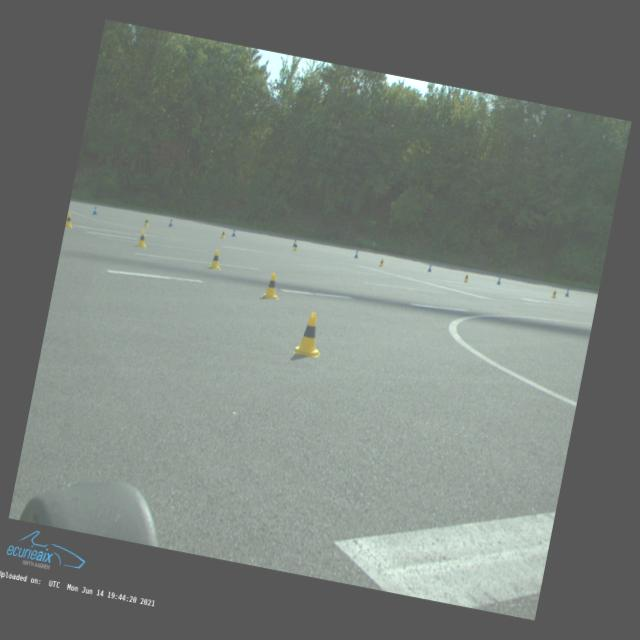blue_cone: (92, 206, 98, 215), (496, 277, 502, 285), (427, 264, 433, 272), (565, 289, 570, 297), (354, 250, 359, 258), (169, 219, 174, 227), (292, 239, 296, 247), (232, 229, 236, 237)
yellow_cone: (293, 311, 327, 358), (261, 272, 284, 301), (208, 248, 225, 270), (137, 230, 149, 248), (66, 212, 74, 228), (551, 288, 558, 298), (143, 217, 150, 227), (378, 258, 385, 267), (293, 242, 299, 252), (220, 230, 227, 238), (464, 273, 469, 283)
